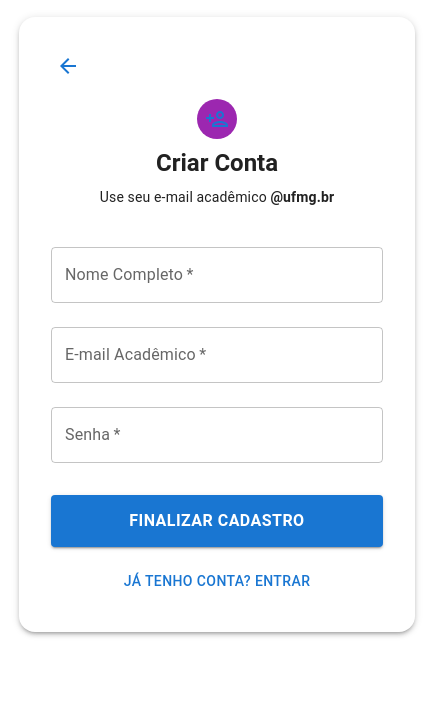
Test: Cadastro — tratamento de erros › exibe mensagem de erro quando a API retorna email duplicado
The image size is (435, 718).
Step 1. Type "Teste" into the field labelled "Nome Completo *" → (217, 275), box top-left (51, 247), bottom-right (383, 303)
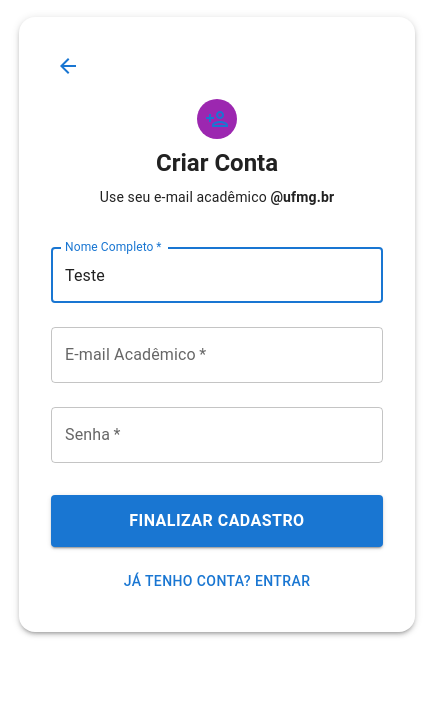
Step 2. Type "teste@ufmg.br" into the field labelled "E-mail Acadêmico *" → (217, 355), box top-left (51, 327), bottom-right (383, 383)
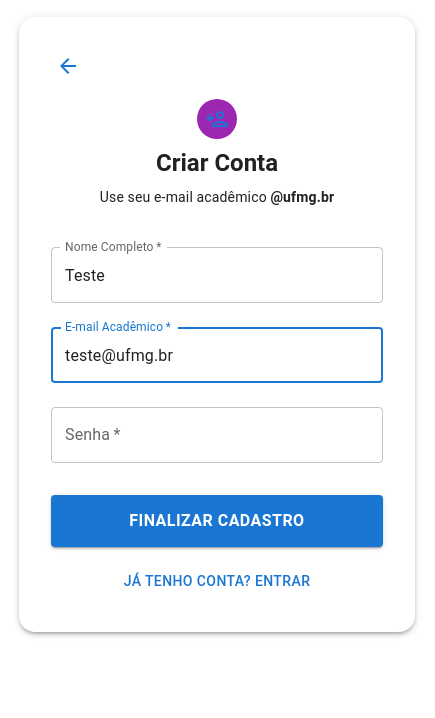
Step 3. Type "123" into the password field labelled "Senha *" → (217, 435), box top-left (51, 407), bottom-right (383, 463)
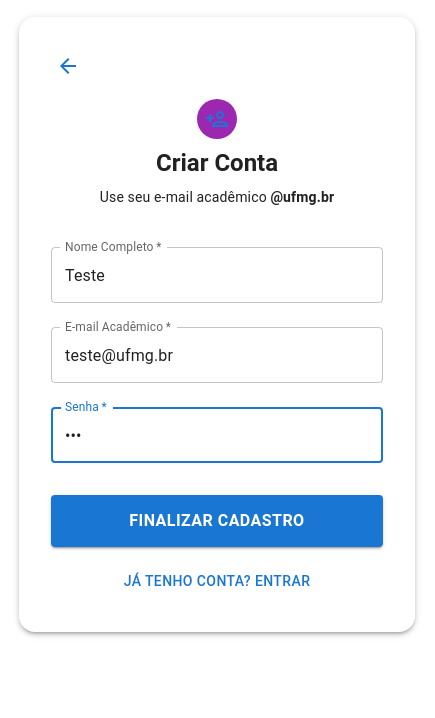
Step 4. Click the button "Finalizar Cadastro" → (217, 521), box top-left (51, 495), bottom-right (383, 547)
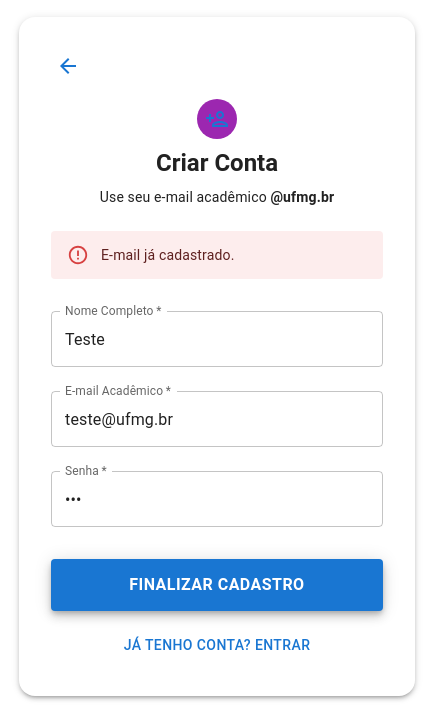
Expected: the message "E-mail já cadastrado." is shown, top-left (51, 231), bottom-right (383, 279)
Expected: the text "E-mail já cadastrado." is shown, top-left (101, 247), bottom-right (234, 263)
